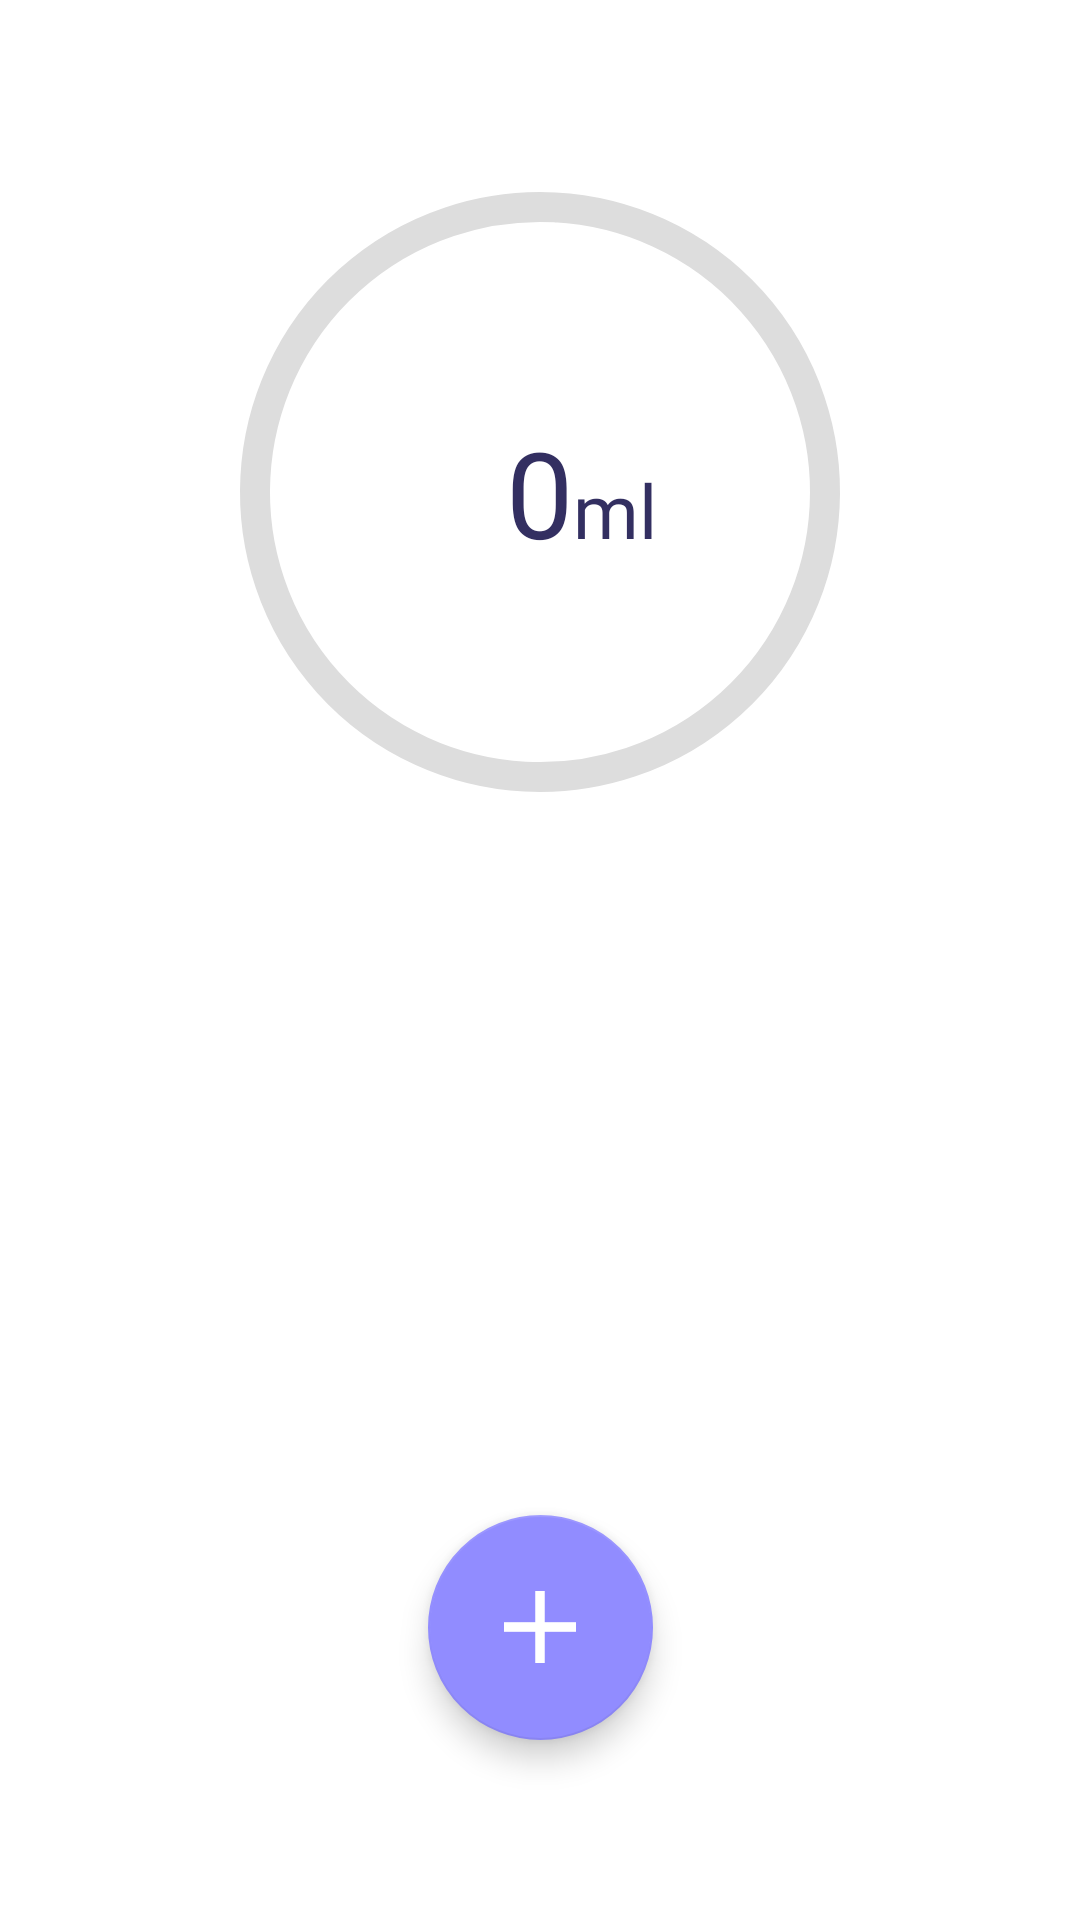

Icons on this 1080 × 1920 Android screen, each with the point to tap as [x,y]:
add: [540,1627]
